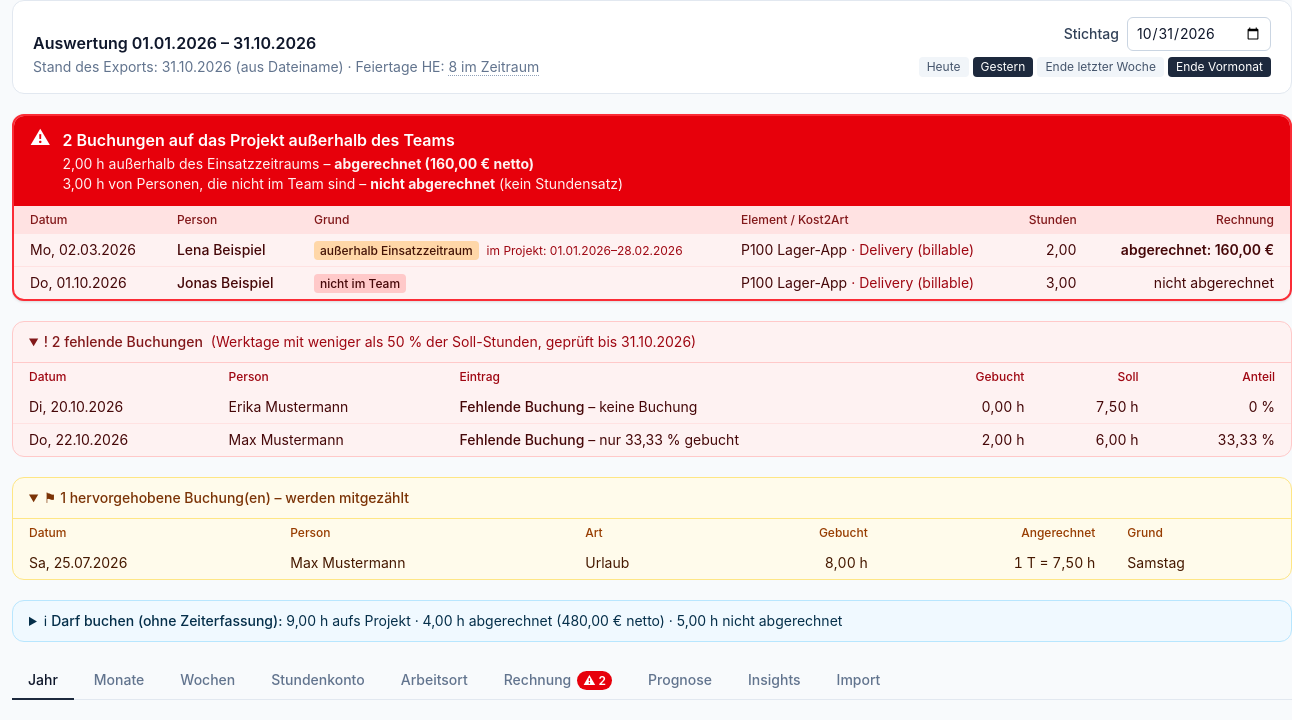
it: ResultsView – Rolle „darf buchen“ › zeigt Buchungen neutral (nicht im Warnkasten) und als Spalte in der Rechnung
This screenshot has width=1292, height=720.
Expected: the message named "Buchungen außerhalb des Teams" does not show "Karl Beispiel", x1=12 y1=114 x2=1291 y2=301
Expected: the text "Karl Beispiel" is not shown
Click the tab "Rechnung⚠ 2".
click(558, 681)  # box x1=488 y1=662 x2=628 y2=700
(page scrolled)
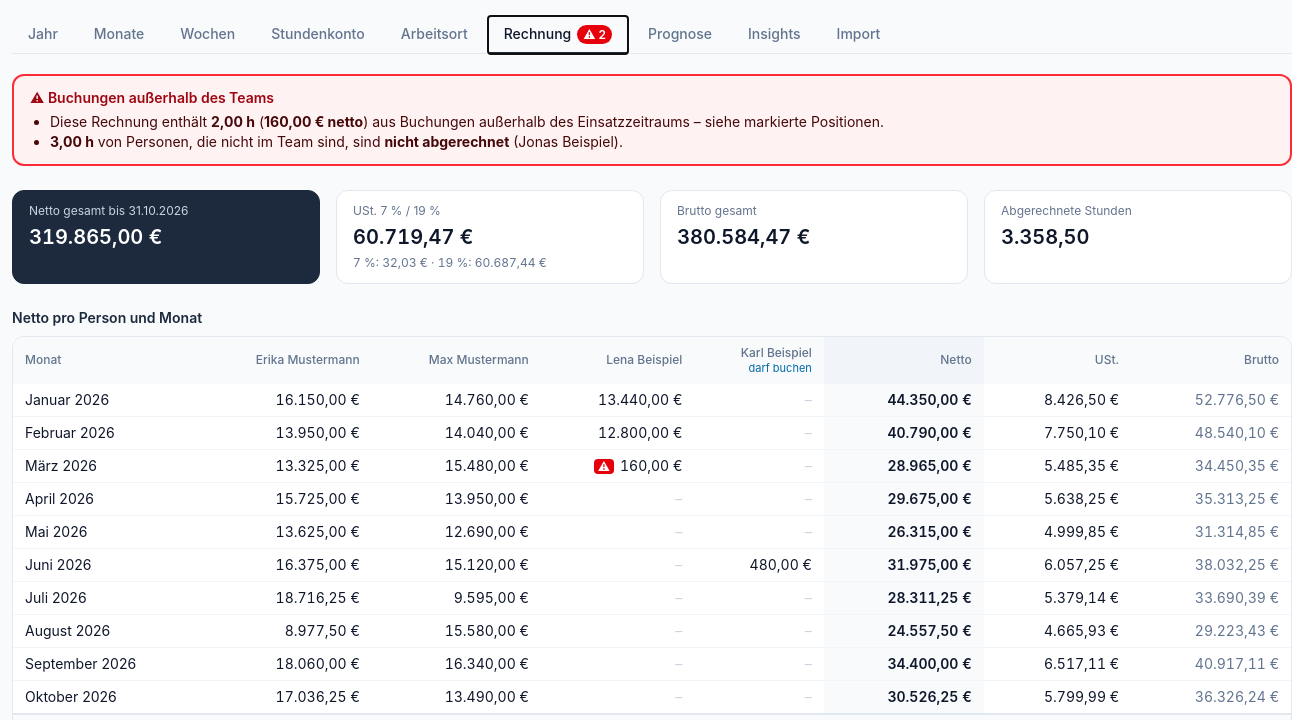
Expected: the column heading "Karl Beispiel" shows "darf buchen", x1=748 y1=361 x2=812 y2=375
